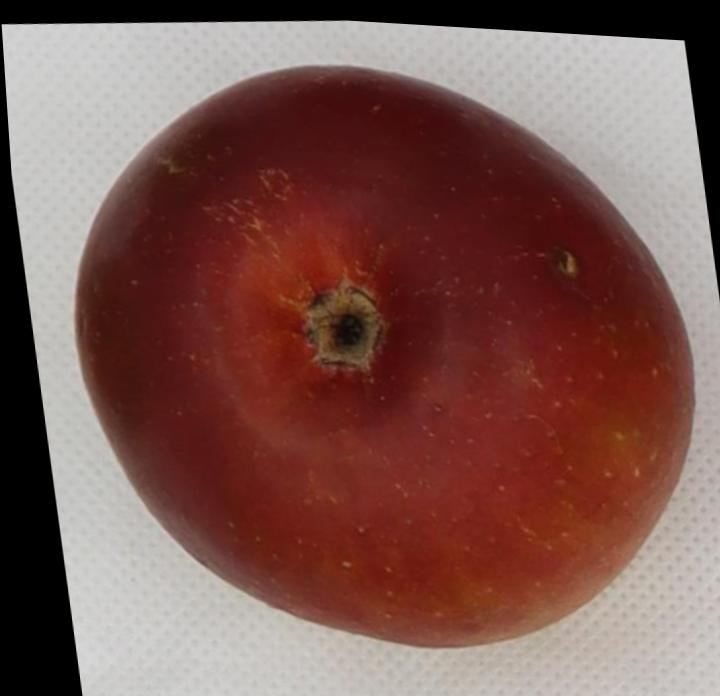apple: (76, 67, 693, 647)
surface_damage: (555, 250, 579, 277)
